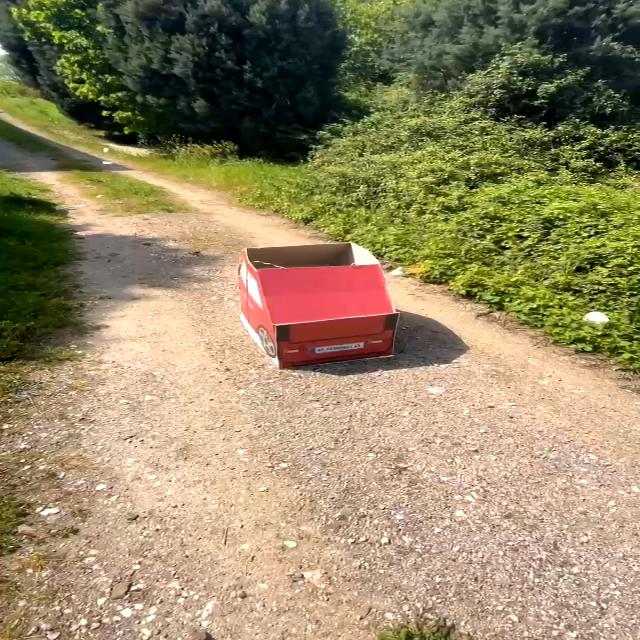red_car: (212, 229, 427, 384)
